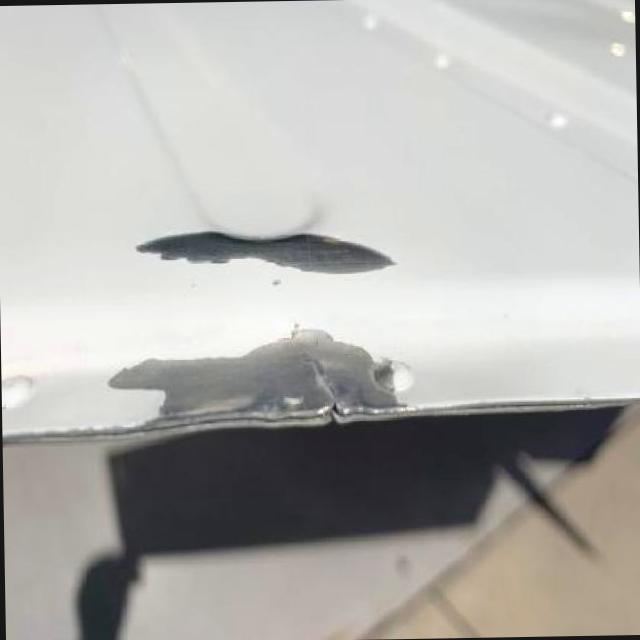crack: (302, 359, 342, 412)
